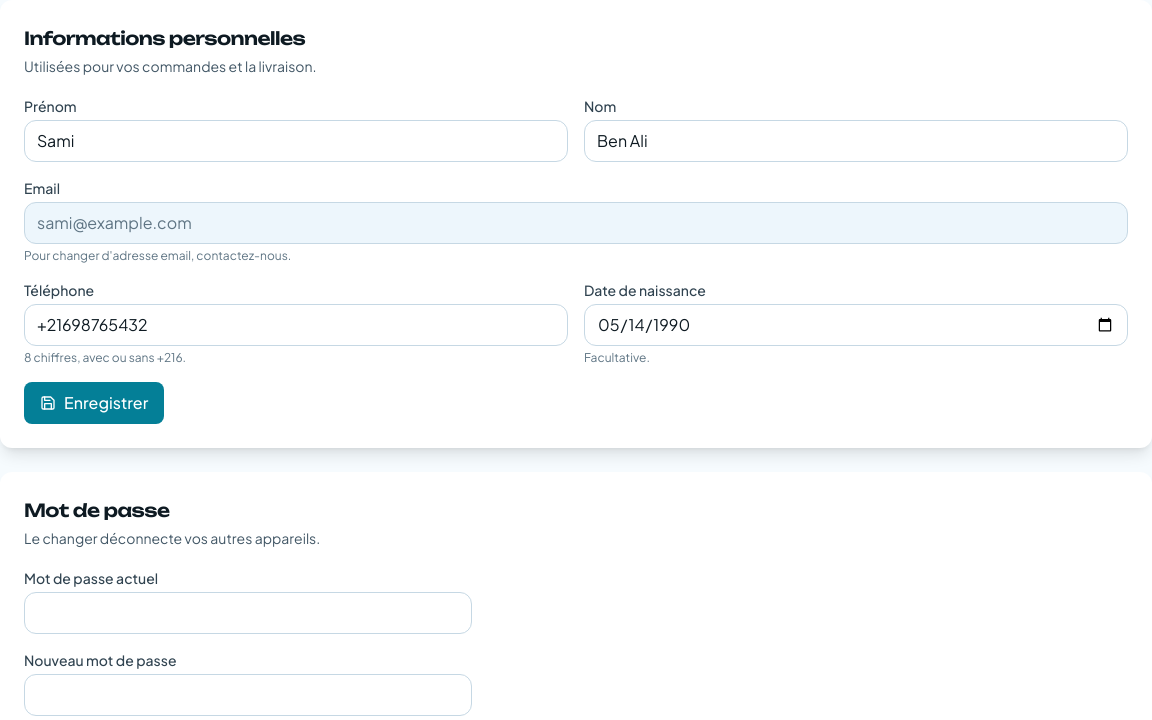
Test: customer account settings › fills in the current details and saves changes
Expected: the date field labelled "Date de naissance" holds "1990-05-14", [584,304,1128,346]
Expected: the field labelled "Email" is disabled, [24,202,1128,244]
Replace the text in the field showing "Sami" with "Samir" at (296, 141), box [24,120,568,162]
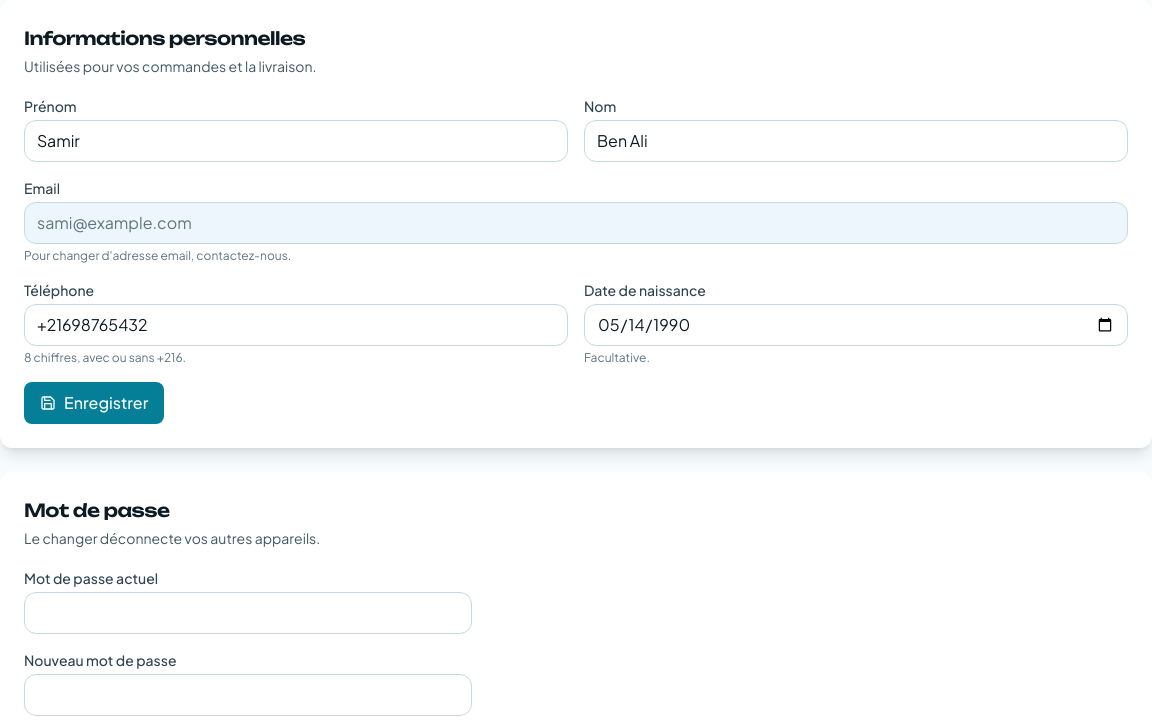
Click the button "Enregistrer" at (94, 403), box [24,382,164,424]
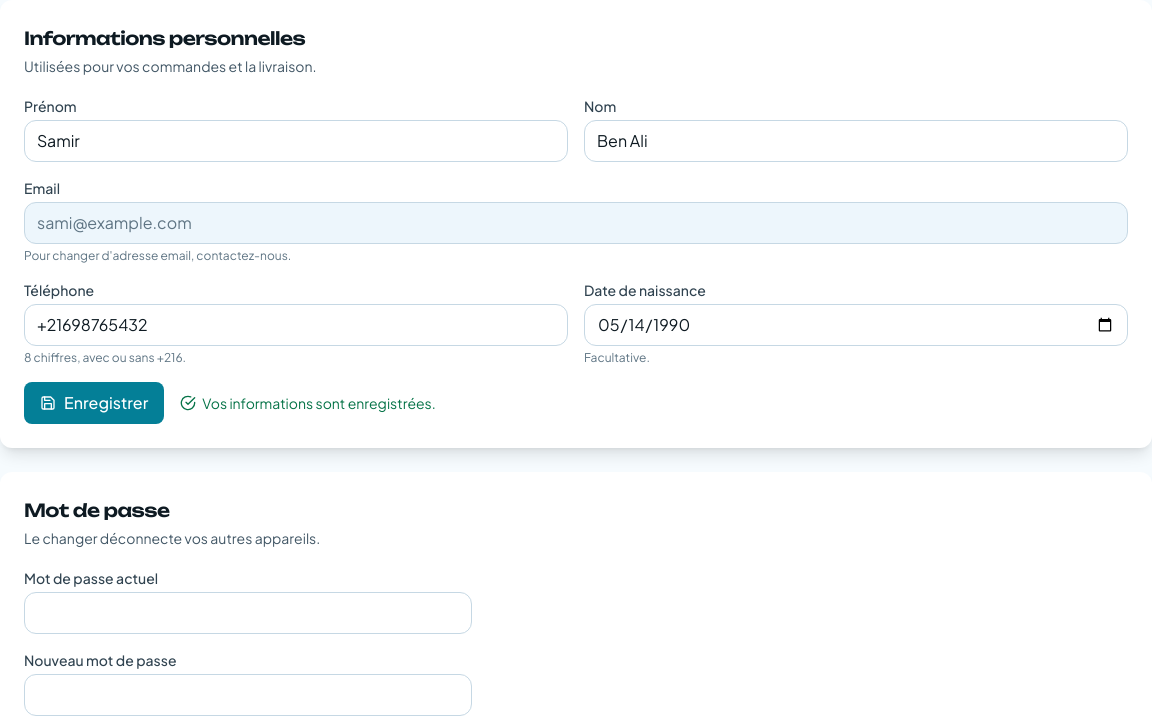
Now the message shows "enregistrées", box [202,394,436,412]
